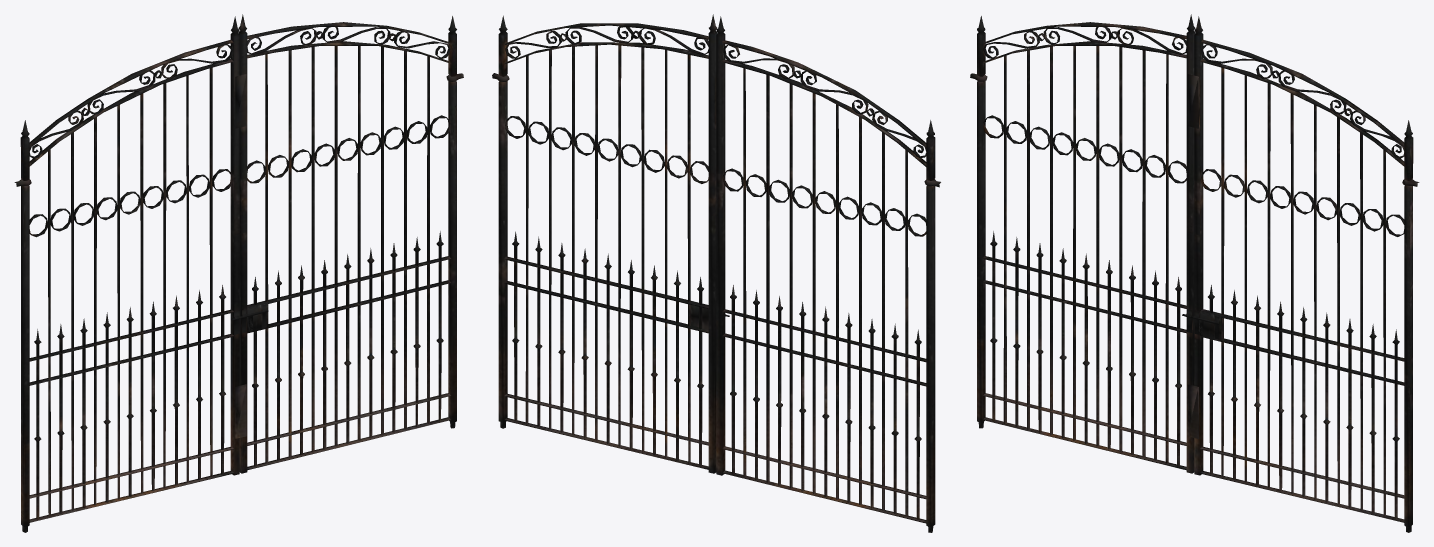
File: struct_iron_gate_01.glb
3 renders of one model, left to right at view 1: azimuth 30°, elevation 25°; view 2: azimuth 150°, elevation 25°; view 3: azimuth 330°, elevation 25°, orthographic.
Parts seen in each view (by area): view 1: struct_iron_gate_01; view 2: struct_iron_gate_01; view 3: struct_iron_gate_01.
Boxes of the visible parts, x1,y1,x2,y2 form: struct_iron_gate_01: [14, 14, 463, 532]; struct_iron_gate_01: [492, 14, 940, 532]; struct_iron_gate_01: [970, 14, 1419, 532].
Bounding box in the file's own units: 2.95 × 2.93 × 0.0972.
1 material, 1 textured.
